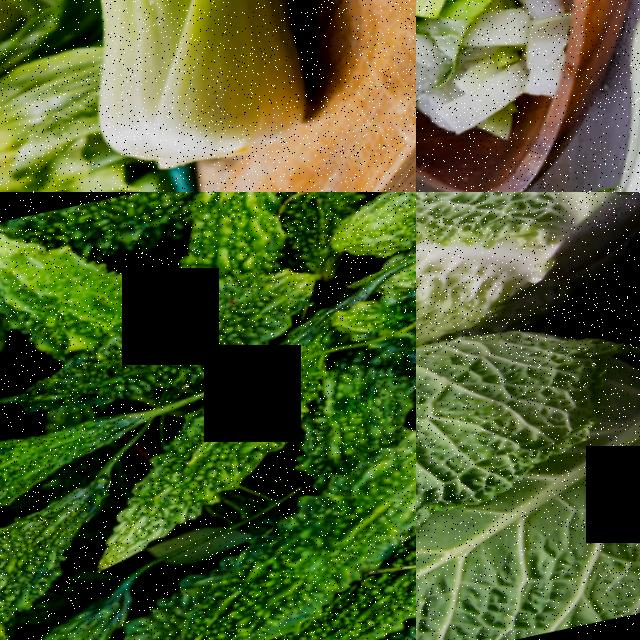bitter gourd: (99, 392, 303, 576), (110, 510, 391, 640), (8, 316, 270, 423), (0, 207, 134, 373), (0, 398, 110, 527), (0, 511, 97, 640), (333, 274, 416, 365), (186, 192, 282, 269), (232, 604, 386, 640), (325, 192, 416, 239)
bok choy: (0, 0, 416, 192), (588, 0, 640, 192)
cabbage: (416, 275, 640, 640), (416, 192, 640, 435)
